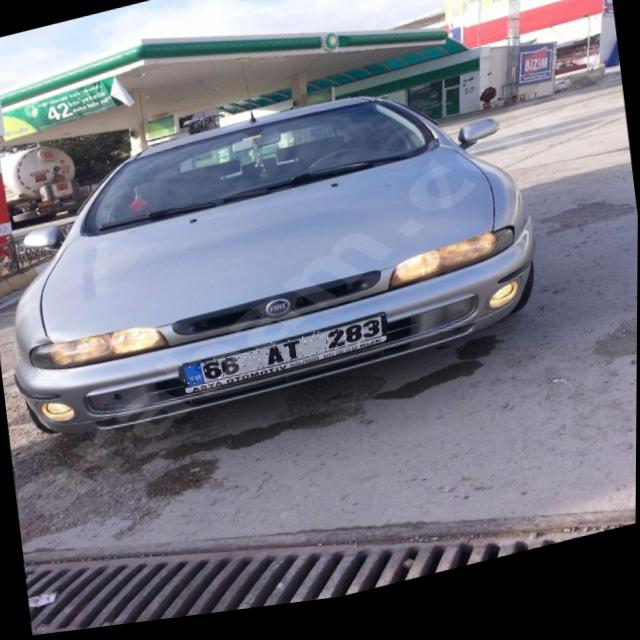license_plate: (182, 324, 385, 393)
